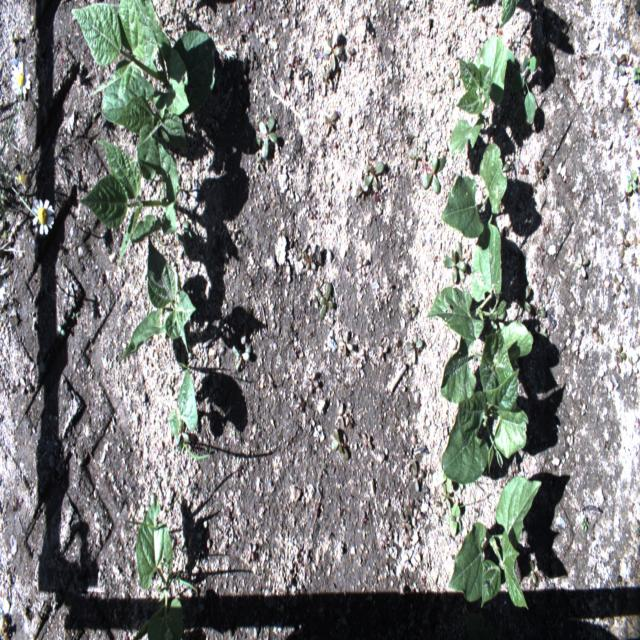crop: (70, 0, 215, 183), (76, 139, 179, 273), (448, 476, 543, 610), (115, 236, 198, 371), (441, 364, 528, 483), (425, 222, 507, 347), (134, 498, 199, 640), (449, 31, 517, 154), (441, 319, 534, 402), (440, 143, 508, 239), (169, 371, 199, 437), (498, 0, 521, 29)
weed: (0, 59, 55, 239), (123, 457, 185, 529), (511, 54, 542, 126), (422, 156, 446, 194), (442, 248, 467, 284), (259, 114, 277, 160), (314, 281, 334, 320), (175, 219, 194, 257), (324, 28, 340, 72), (330, 430, 350, 463), (445, 503, 463, 539), (363, 162, 385, 191), (178, 441, 211, 460), (405, 332, 424, 364), (230, 342, 250, 372), (411, 459, 425, 494), (338, 328, 353, 358), (611, 52, 626, 81), (174, 418, 189, 446), (515, 286, 531, 312), (456, 240, 466, 281), (323, 111, 338, 138), (574, 251, 589, 278), (617, 228, 630, 258), (490, 311, 507, 331), (440, 480, 450, 511), (528, 304, 548, 319), (448, 65, 460, 89), (628, 352, 640, 376), (626, 169, 637, 195), (356, 252, 368, 275), (612, 274, 626, 293), (418, 140, 431, 160), (535, 159, 548, 179), (527, 560, 537, 585), (409, 146, 419, 170), (399, 512, 411, 532), (304, 252, 316, 271), (296, 242, 308, 260), (614, 349, 628, 362), (406, 300, 418, 315), (442, 472, 451, 491), (354, 184, 368, 196), (255, 153, 263, 171), (582, 516, 589, 534), (633, 65, 640, 83), (56, 324, 65, 337), (470, 0, 477, 11), (540, 327, 547, 338)
